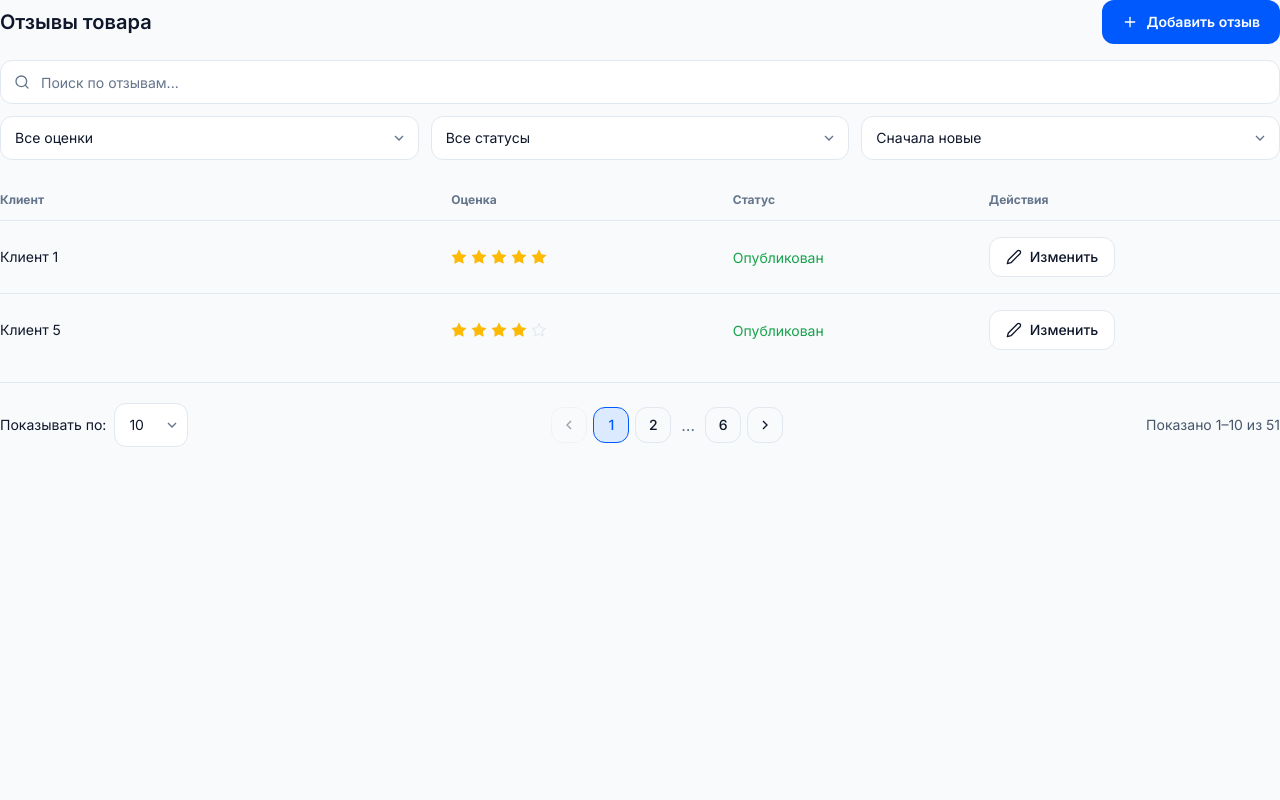
Test: product review administration › creates an administrative review with the submitted values
Expected: the text "Клиент 1" is shown, [0,220,435,294]
Click the button "Добавить отзыв" at (1191, 22), box [1102,0,1279,44]
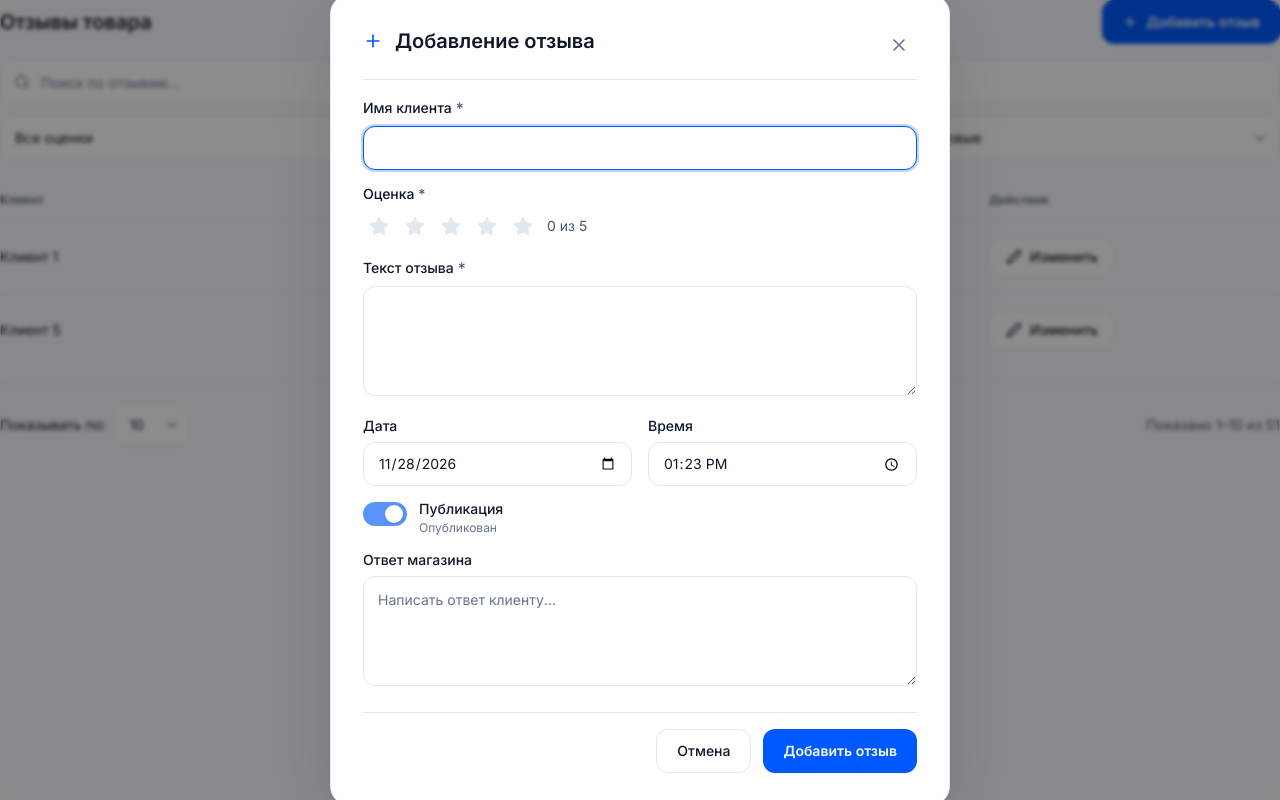
Type "Новый клиент" into the field labelled "Имя клиента" at (640, 148), box [363,126,917,170]
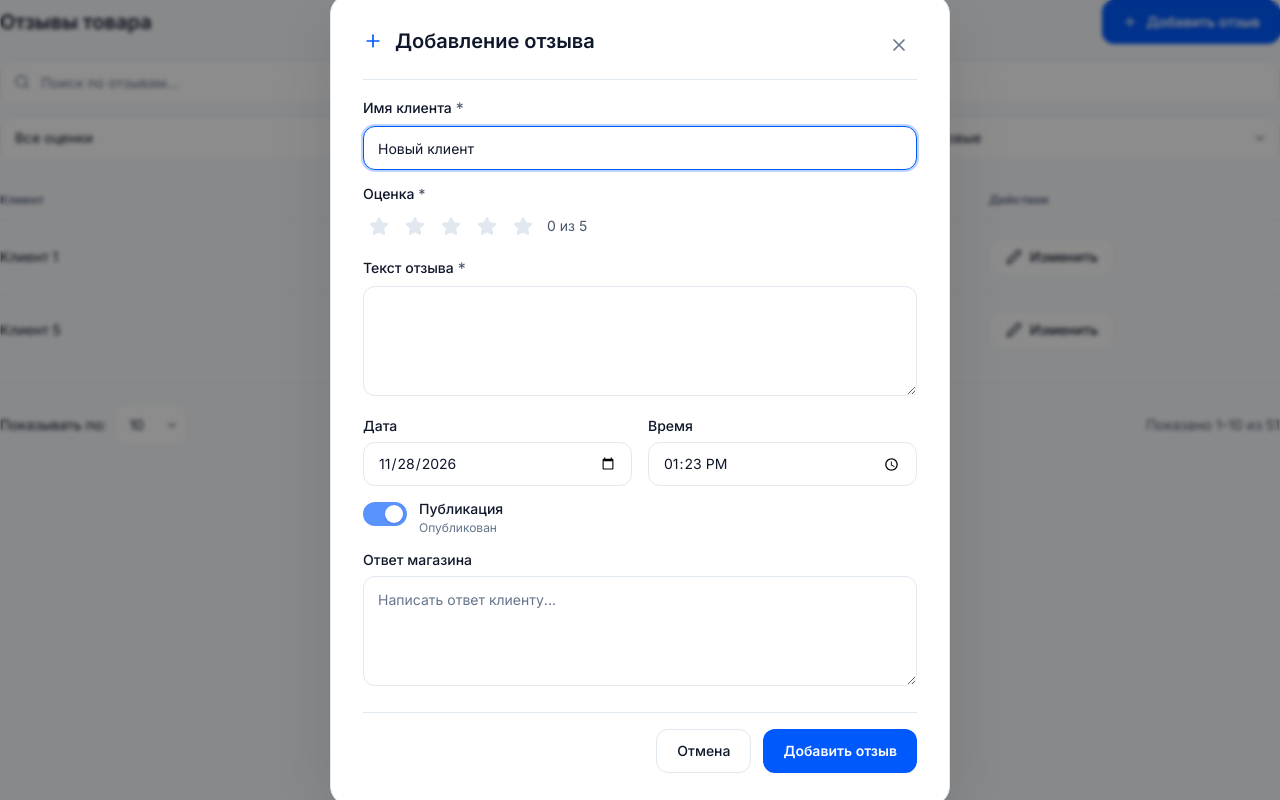
Click the radio button named "Оценка 5 из 5" at (523, 226), box [507,210,539,242]
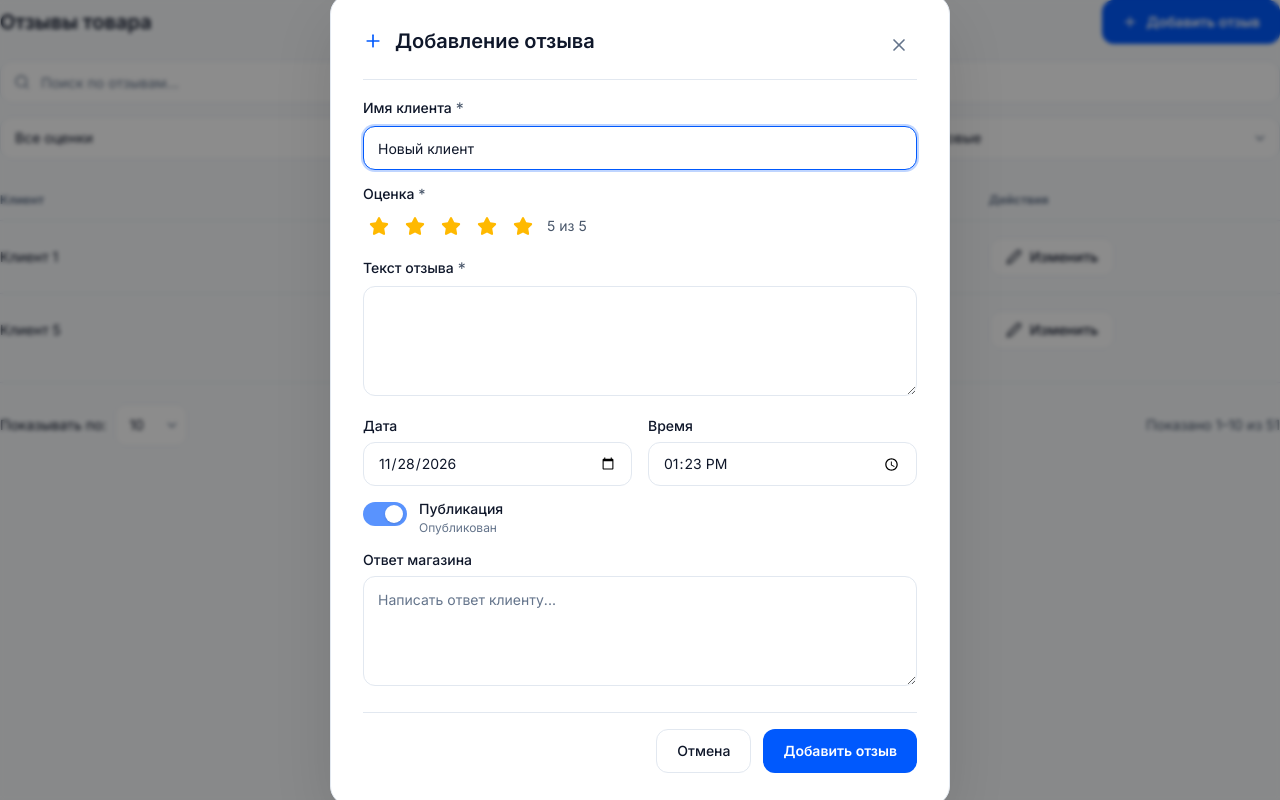
Type "Всё отлично!" into the text box labelled "Текст отзыва" at (640, 341), box [363,286,917,396]
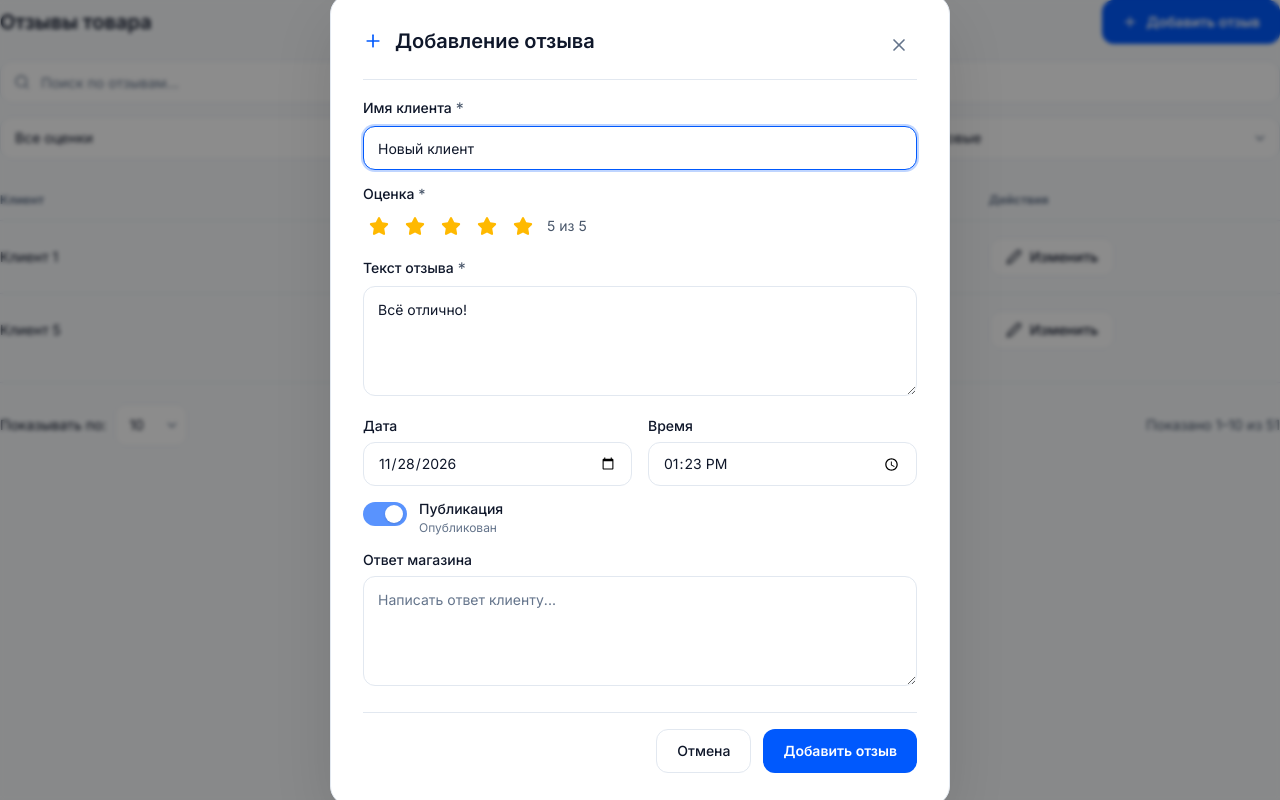
Click the button "Добавить отзыв" at (840, 751), box [764,729,917,773]
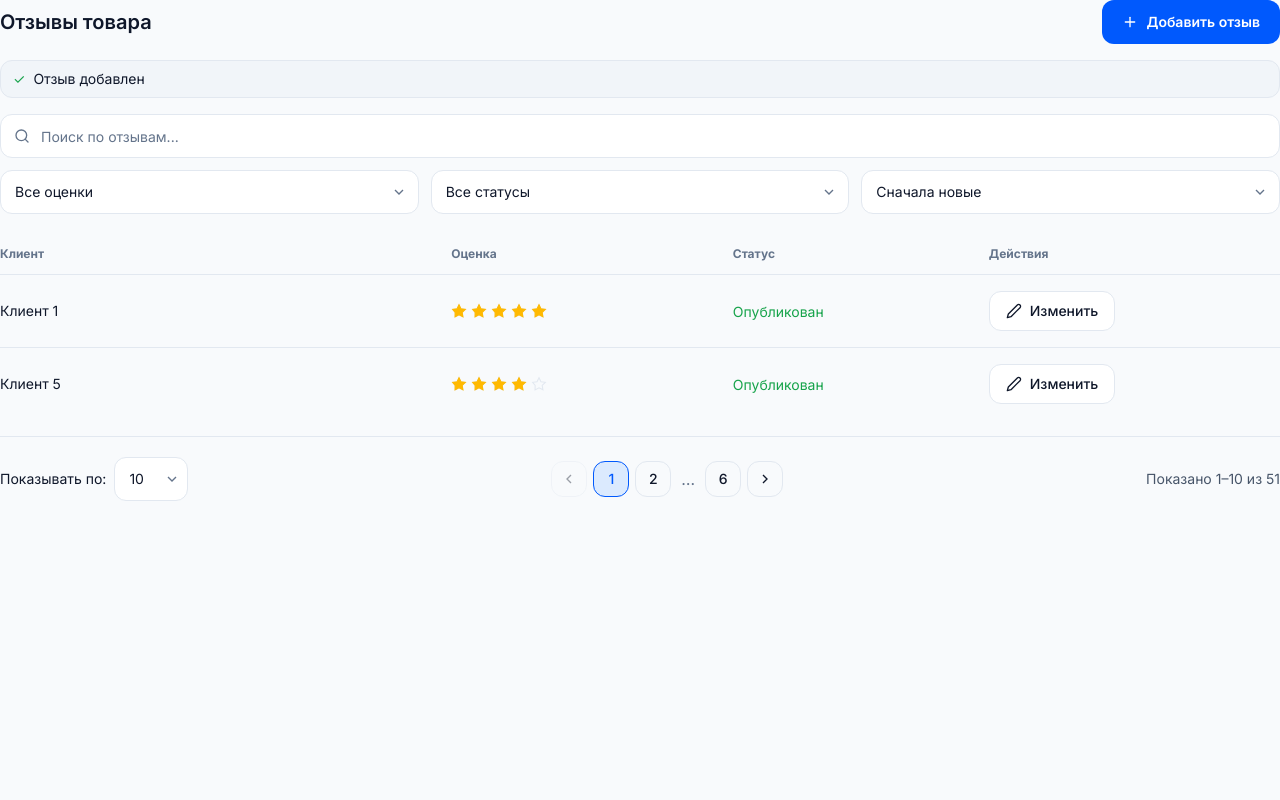
Expected: the text "Отзыв добавлен" is shown, [33,70,145,87]
